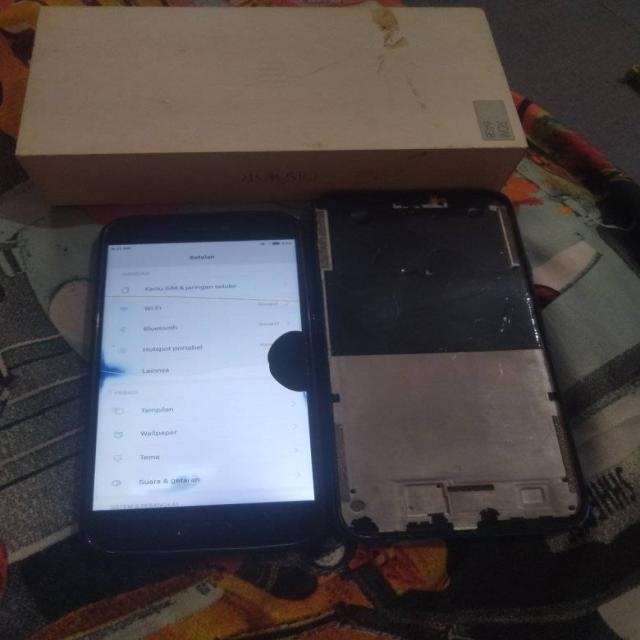phone: (91, 212, 333, 549)
